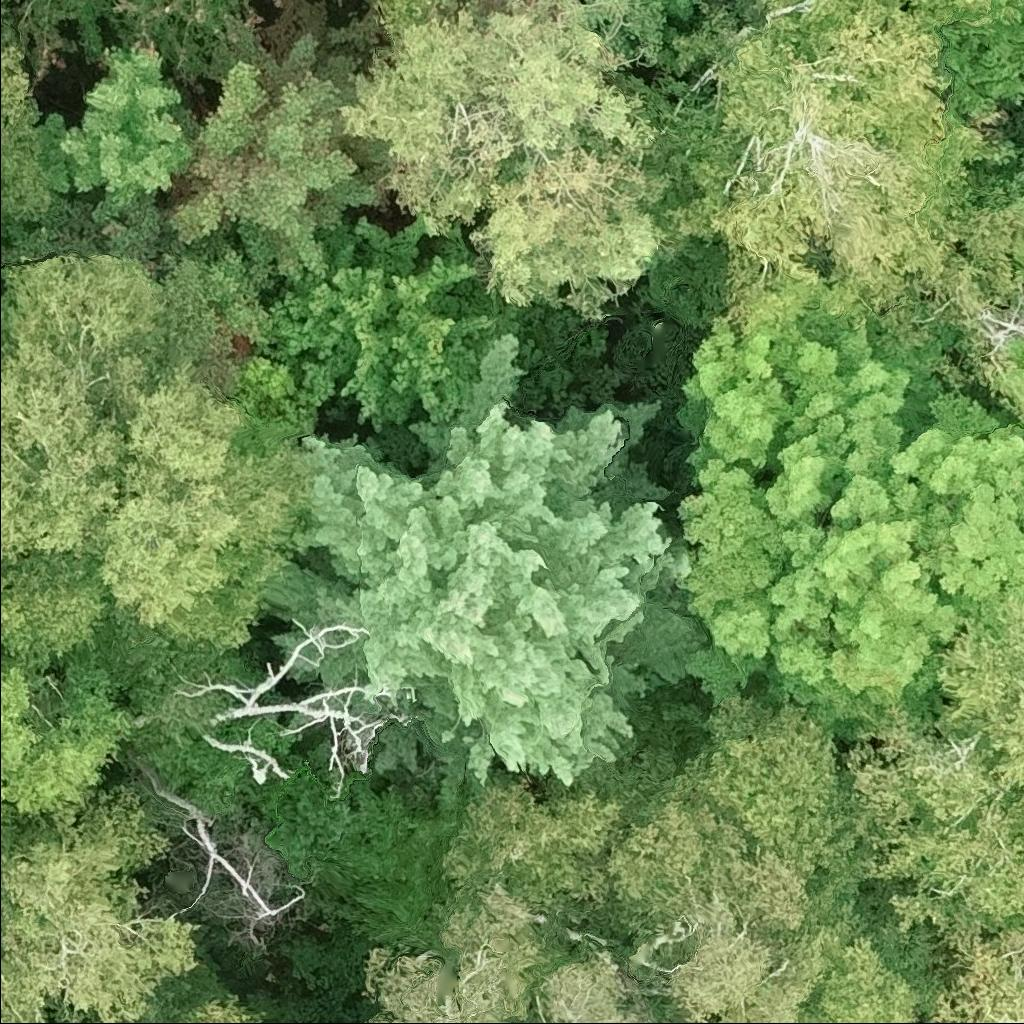crown: (261, 332, 698, 806), (670, 288, 1023, 753), (0, 253, 306, 666), (338, 0, 685, 319), (661, 3, 957, 331), (165, 0, 393, 297), (599, 745, 834, 1023), (838, 587, 1023, 935), (265, 213, 518, 435), (0, 790, 201, 1023), (678, 688, 870, 924), (88, 197, 276, 401), (131, 759, 311, 952), (0, 576, 138, 821), (440, 767, 641, 929), (357, 869, 560, 1023), (54, 40, 205, 224), (814, 872, 943, 1023), (0, 111, 103, 264), (729, 0, 998, 47), (923, 923, 1023, 1023), (936, 0, 1023, 114), (531, 956, 651, 1023), (0, 34, 39, 152), (164, 992, 263, 1023), (1008, 339, 1023, 387), (1009, 394, 1023, 416)
